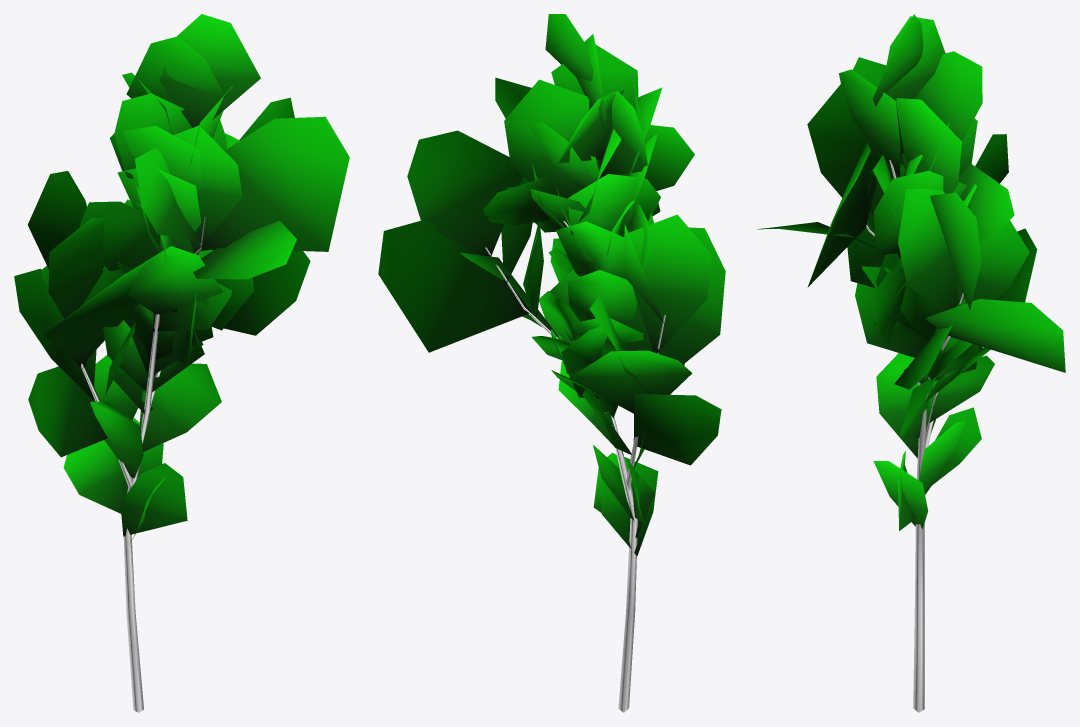
The model's file is Oak_Small_3_LOD_1.fbx.
3 renders of one model, left to right at view 1: azimuth 30°, elevation 25°; view 2: azimuth 150°, elevation 25°; view 3: azimuth 270°, elevation 25°, orthographic. The views are drawn at different scales.
Visible parts, largest first — view 1: Oak_Small_3_LOD_1; view 2: Oak_Small_3_LOD_1; view 3: Oak_Small_3_LOD_1.
Boxes of the visible parts, x1,y1,x2,y2 form: Oak_Small_3_LOD_1: [14, 14, 349, 712]; Oak_Small_3_LOD_1: [378, 14, 725, 712]; Oak_Small_3_LOD_1: [757, 14, 1065, 712].
Bounding box in the file's own units: 4.64 × 10.36 × 4.02.
